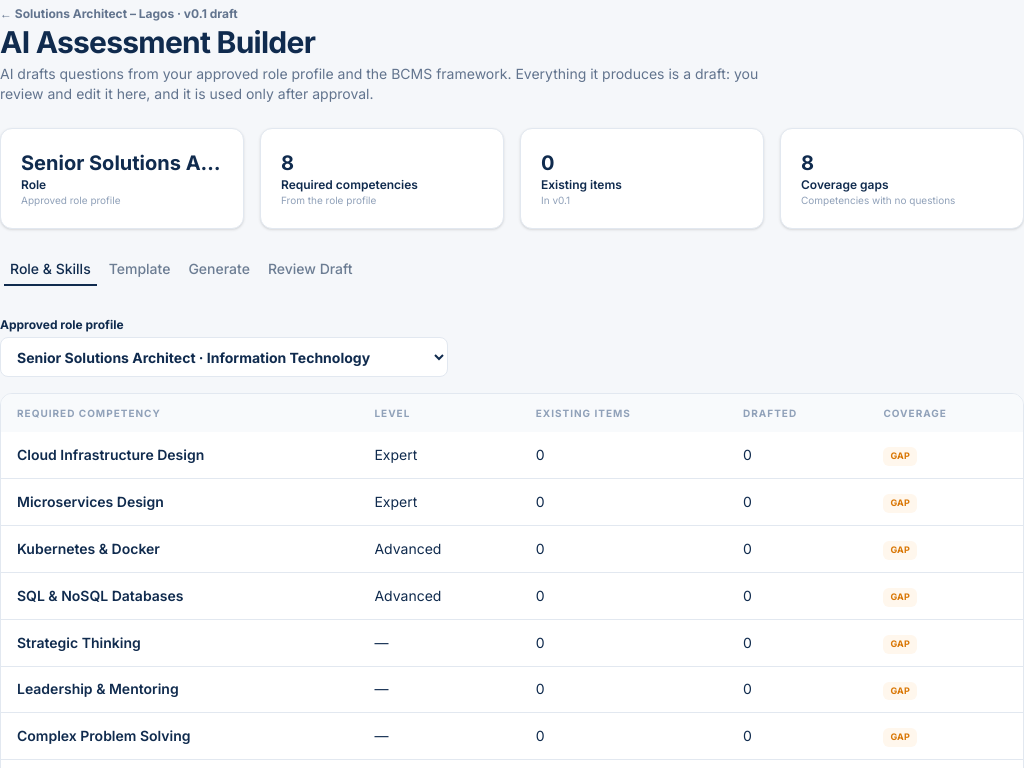
it: AI Assessment Builder screen › shows the AI service's error when the role has no framework profile
The image size is (1024, 768).
Select "Financial Controller · Finance & Accounting" in the dropdown labelled "Approved role profile": (224, 357) [0, 337, 448, 377]
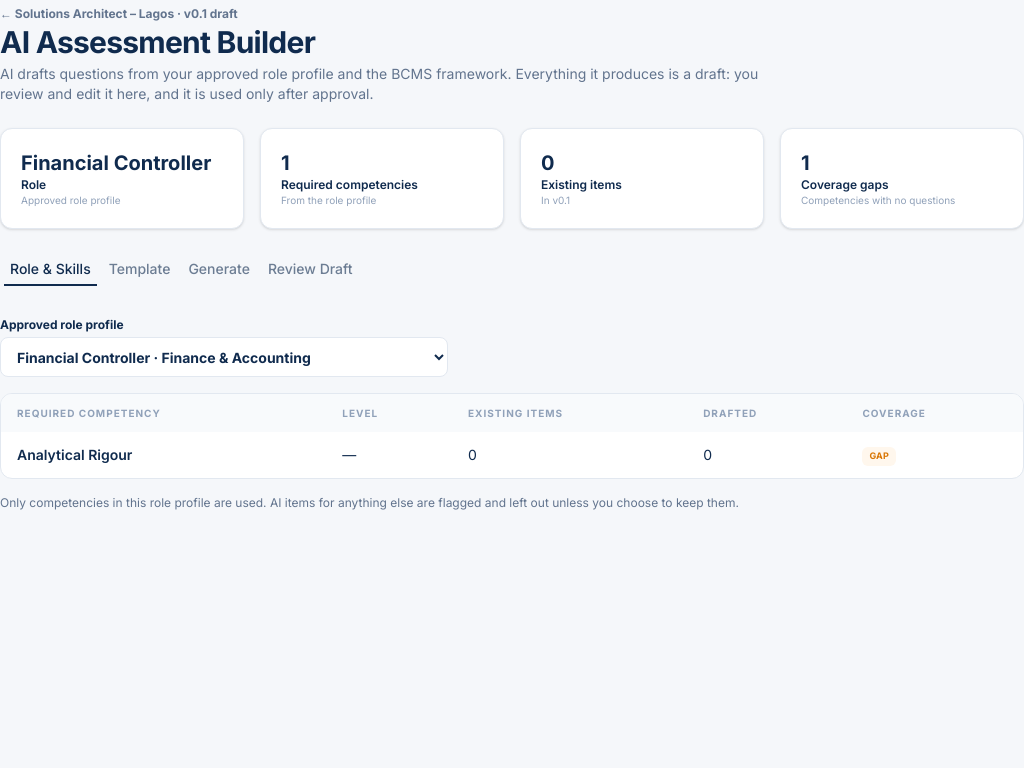
Click the tab "Generate": (219, 269) [181, 256, 257, 282]
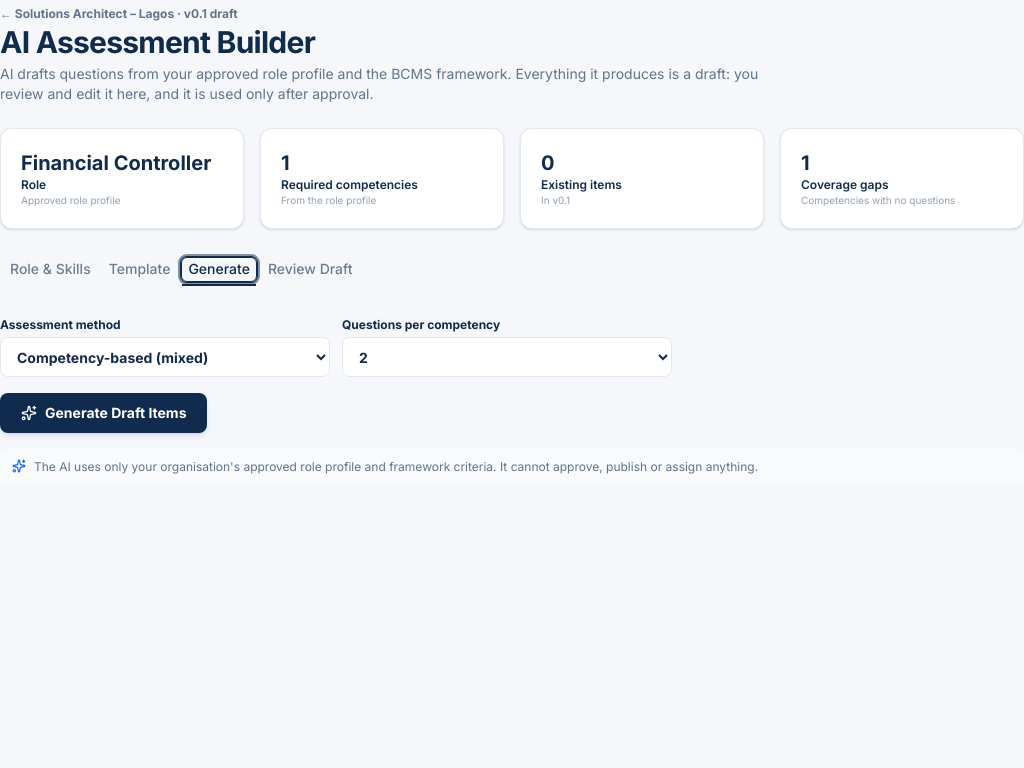
Click the button "Generate Draft Items": (104, 413) [0, 393, 208, 433]
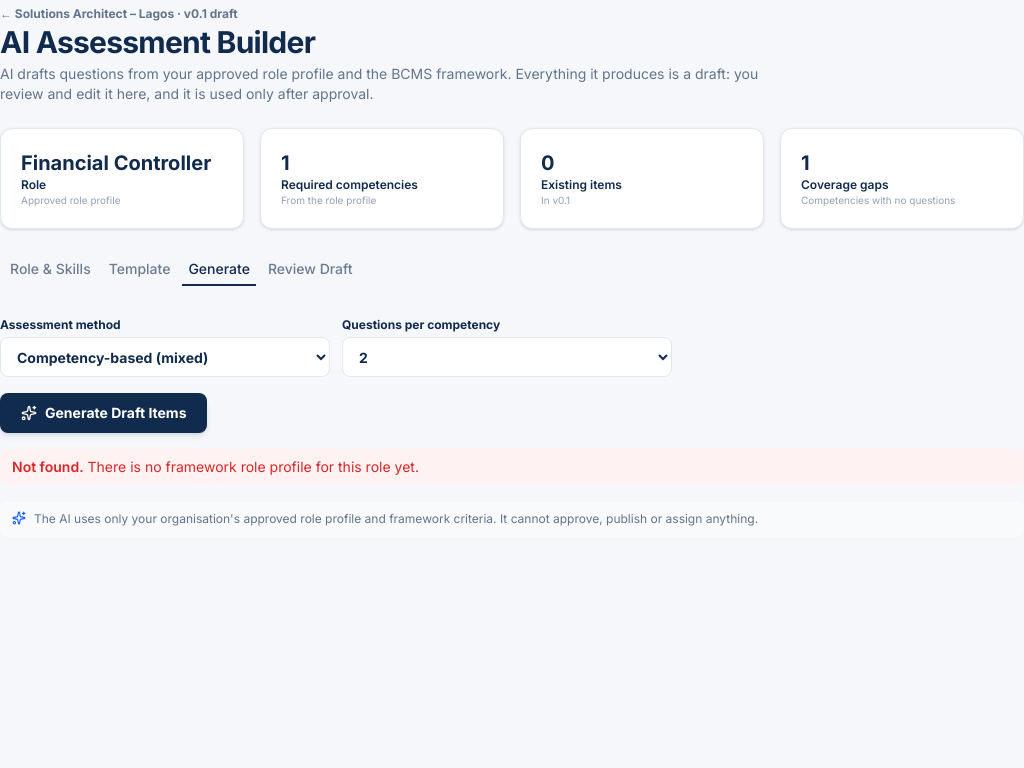
Result: the text "Not found. There is no framework role profile for this role yet." is shown at [0, 449, 1023, 485]
